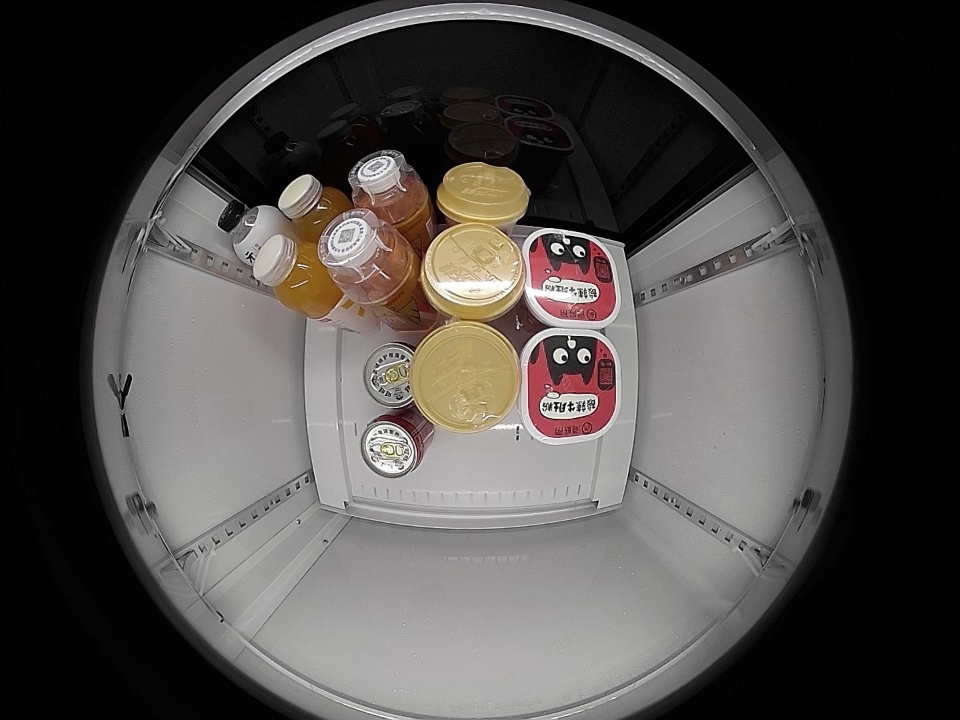dongpeng-b: (316, 208, 414, 305), (349, 150, 429, 224)
niudufen: (520, 328, 620, 444), (523, 229, 620, 330)
wangzainiunai: (361, 410, 433, 479), (363, 340, 419, 409)
weic: (253, 234, 342, 318), (279, 174, 352, 242)
youlemei: (411, 321, 521, 434), (420, 223, 526, 321), (435, 162, 530, 227)
yuanqishui: (217, 199, 284, 264)
